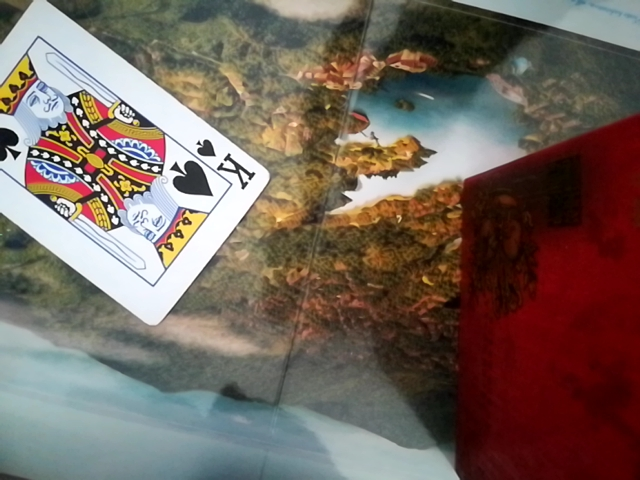ht k: (0, 0, 267, 330)
